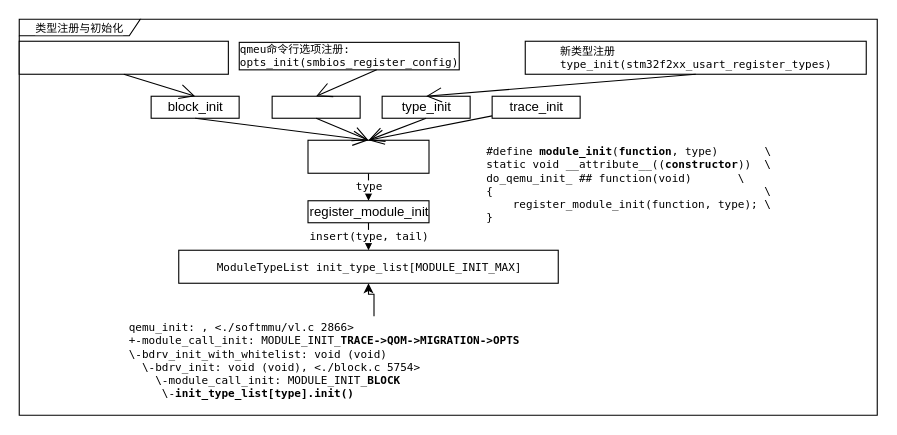
The diagram is 897 pixels wide and 435 high, and some of its shapes have lost their labels. The shapes that lost their labels are listed below. From the top down, each one's centre as x and y in pixels, then its label:
At [123,57]: "/block - 驱动注册 block_init(bdrv_ssh_init)".
At [315,106]: "opts_init".
At [368,156]: "module_init".
